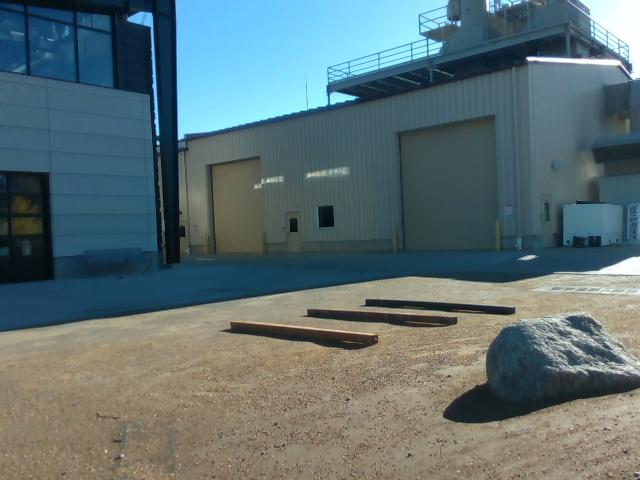dunnage: (215, 289, 524, 354)
